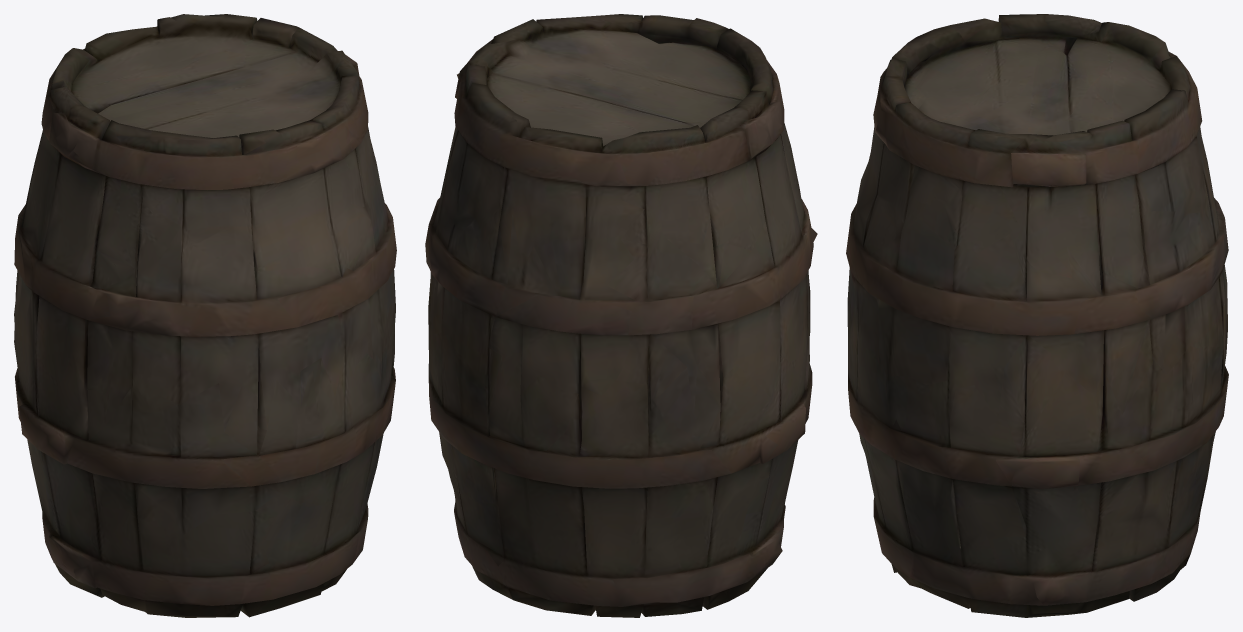
File: mine_barrel.glb
3 views of the same model, side by side, from view 1: azimuth 30°, elevation 25°; view 2: azimuth 150°, elevation 25°; view 3: azimuth 270°, elevation 25° (orthographic).
Visible parts, largest first — view 1: MineBarrel; view 2: MineBarrel; view 3: MineBarrel.
Part boxes in pixels (x1,y1,x2,y2): MineBarrel: [14, 14, 396, 617]; MineBarrel: [425, 14, 817, 617]; MineBarrel: [846, 14, 1228, 617].
Size of the model in its own units: 0.7019 by 0.95 by 0.6846.
1 material, 1 textured.
